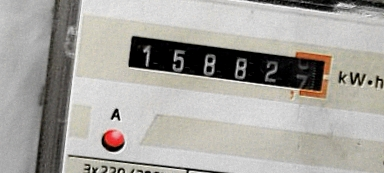1: (138, 41, 154, 69)
2: (261, 58, 280, 85)
5: (169, 47, 186, 74)
7: (292, 71, 309, 90)
8: (200, 51, 219, 78), (231, 55, 250, 82)
screen: (115, 23, 340, 108)
